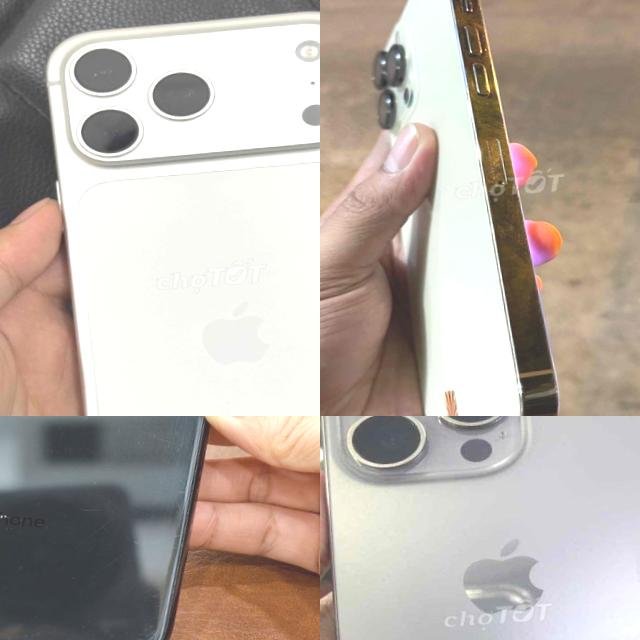scratch: (94, 534, 184, 626), (468, 130, 532, 240), (125, 416, 202, 476), (0, 482, 47, 542), (44, 434, 99, 482), (0, 548, 40, 613), (460, 72, 524, 109), (109, 526, 182, 556), (0, 608, 65, 640), (104, 616, 173, 640), (155, 476, 196, 508), (68, 491, 106, 524), (80, 470, 104, 496), (103, 416, 124, 444), (74, 416, 97, 429)
